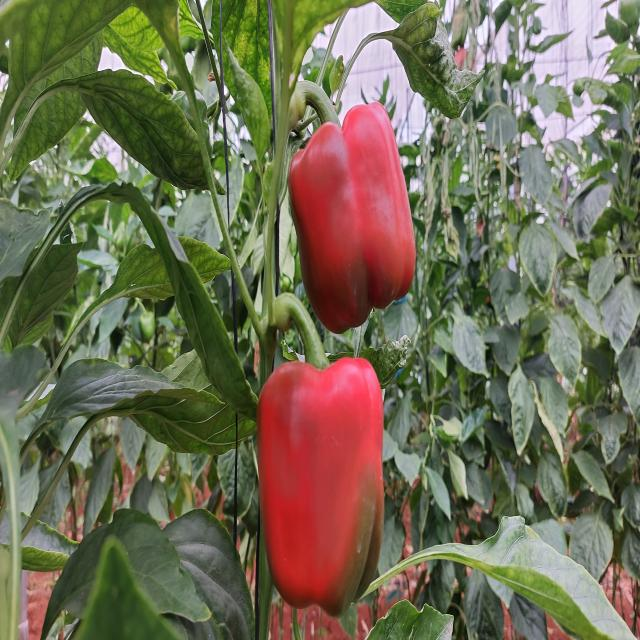Red-Ready-to-Harvest: (250, 344, 388, 617), (272, 91, 424, 310)
